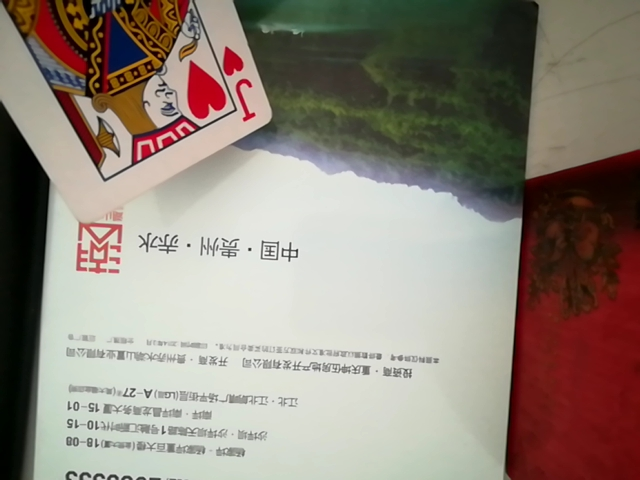hx j: (0, 0, 272, 235)
